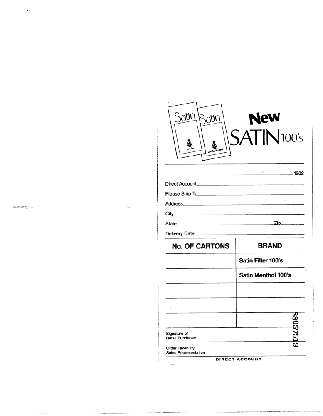textbox: (235, 282, 307, 299), (235, 297, 307, 314), (165, 312, 237, 329), (165, 297, 237, 314), (165, 282, 237, 299), (235, 252, 306, 269), (165, 268, 236, 285), (235, 312, 307, 328), (165, 253, 236, 269), (235, 269, 306, 285)
textline: (165, 336, 306, 343), (173, 209, 305, 216), (183, 199, 305, 206), (165, 351, 306, 357), (196, 180, 304, 186), (197, 190, 305, 196), (176, 220, 274, 226), (232, 170, 295, 176), (280, 220, 305, 225)
